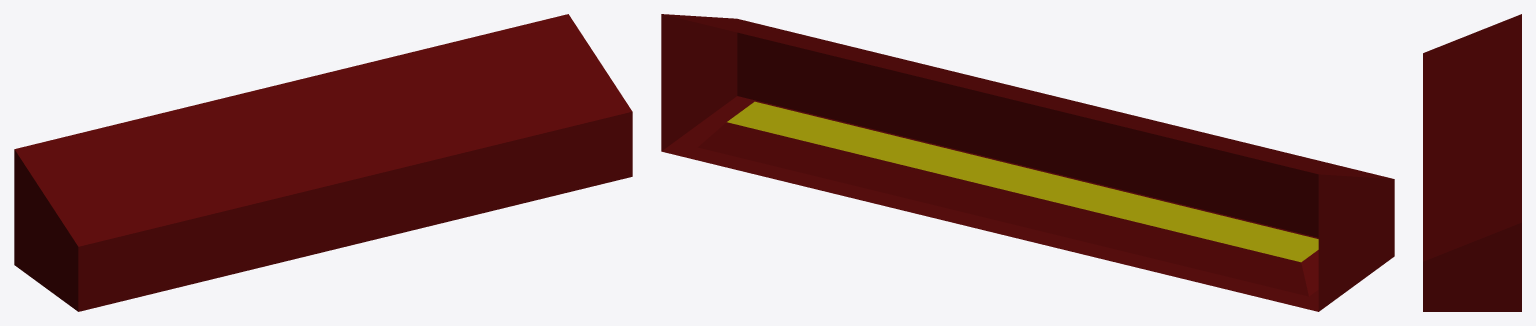
Rendered from Big_Light.fbx.
3 views of the same model, side by side, from view 1: azimuth 30°, elevation 25°; view 2: azimuth 150°, elevation 25°; view 3: azimuth 270°, elevation 25° (orthographic). The views are drawn at different scales.
Parts seen in each view (by area): view 1: Big_Door_Light; view 2: Big_Door_Light; view 3: Big_Door_Light.
Part boxes in pixels (x1=…): Big_Door_Light: x1=14, y1=14, x2=632, y2=311; Big_Door_Light: x1=661, y1=14, x2=1394, y2=311; Big_Door_Light: x1=1423, y1=14, x2=1521, y2=311.
Bounding box in the file's own units: 100 × 20 × 20.
